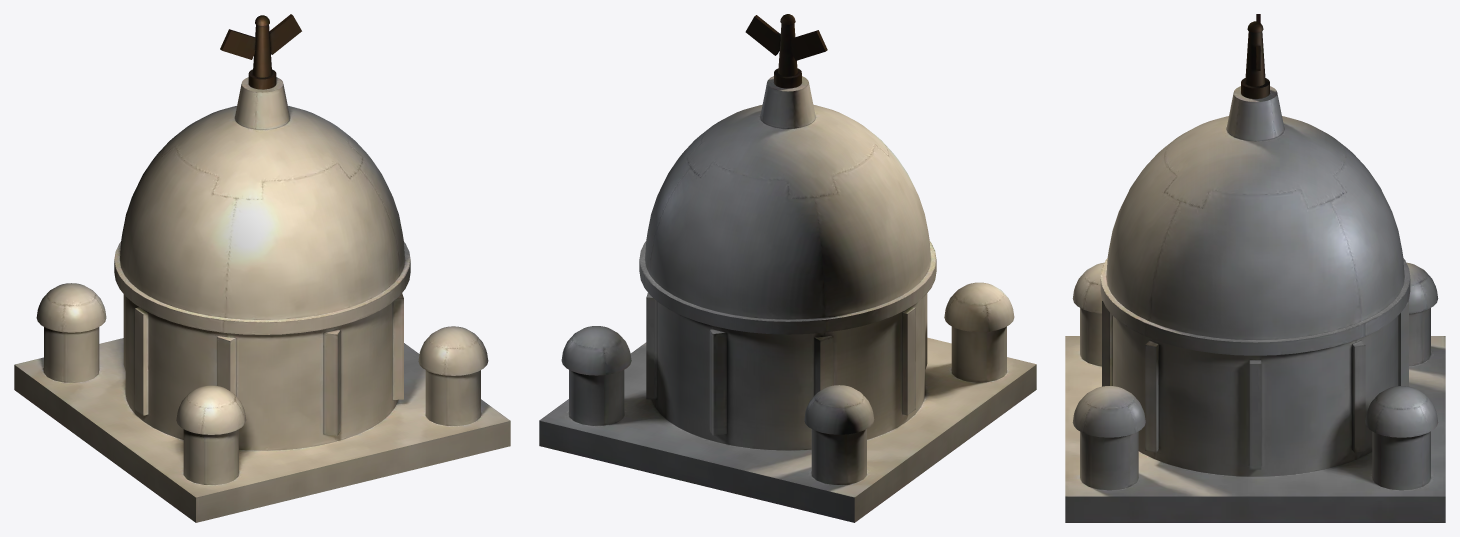
Rendered from victoria-dome.glb.
3 views of the same model, side by side, from view 1: azimuth 30°, elevation 25°; view 2: azimuth 150°, elevation 25°; view 3: azimuth 270°, elevation 25° (orthographic). The views are drawn at different scales.
Parts seen in each view (by area): view 1: victoria-dome; view 2: victoria-dome; view 3: victoria-dome.
Boxes of the visible parts, bbox=[...] form: victoria-dome: bbox=[14, 14, 510, 522]; victoria-dome: bbox=[539, 14, 1036, 522]; victoria-dome: bbox=[1065, 14, 1445, 522].
Size of the model in its own units: 2.6 by 3.17 by 2.6.
1 material, 1 textured.
